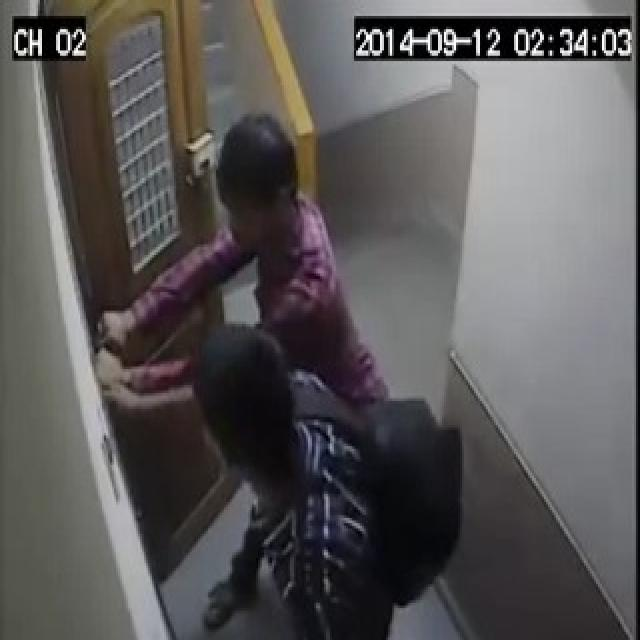thief: (82, 119, 454, 640)
